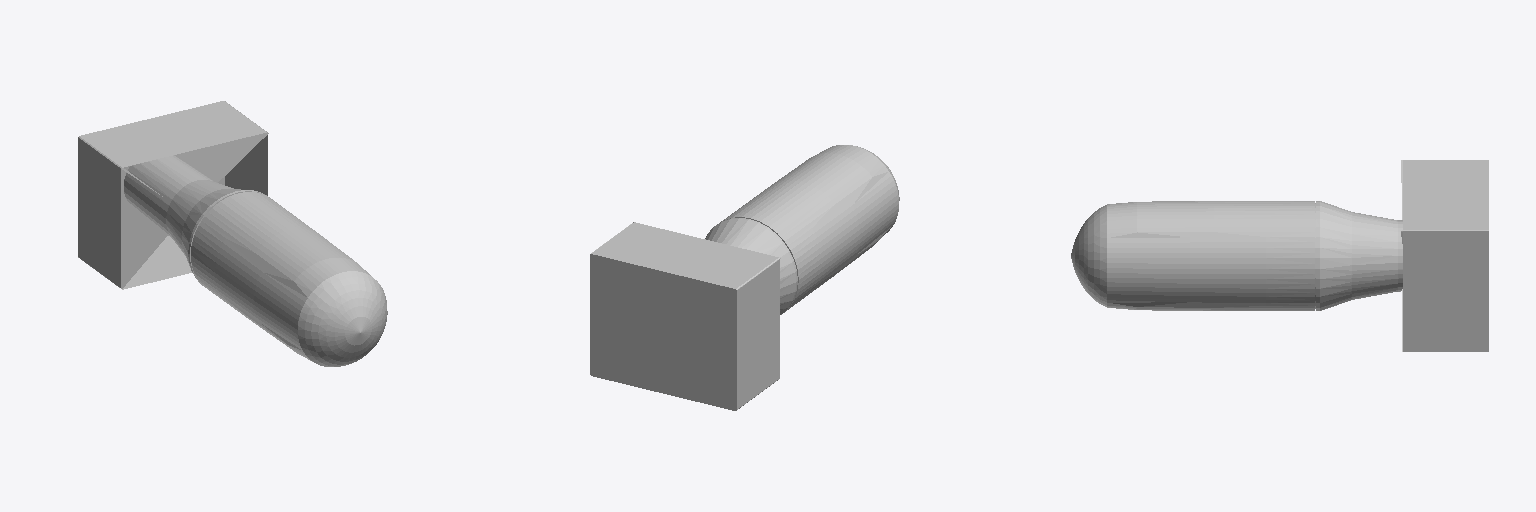
The model's file is nuke2.obj.
The picture shows the model from 3 angles: view 1: azimuth 30°, elevation 25°; view 2: azimuth 150°, elevation 25°; view 3: azimuth 270°, elevation 25°; orthographic projection.
Parts seen in each view (by area): view 1: Circle; view 2: Circle; view 3: Circle.
Part boxes in pixels (x1,y1,x2,y2): Circle: (78,101,387,366); Circle: (590,145,899,410); Circle: (1071,160,1488,351).
Bounding box in the file's own units: 1.04 × 0.8254 × 2.56.